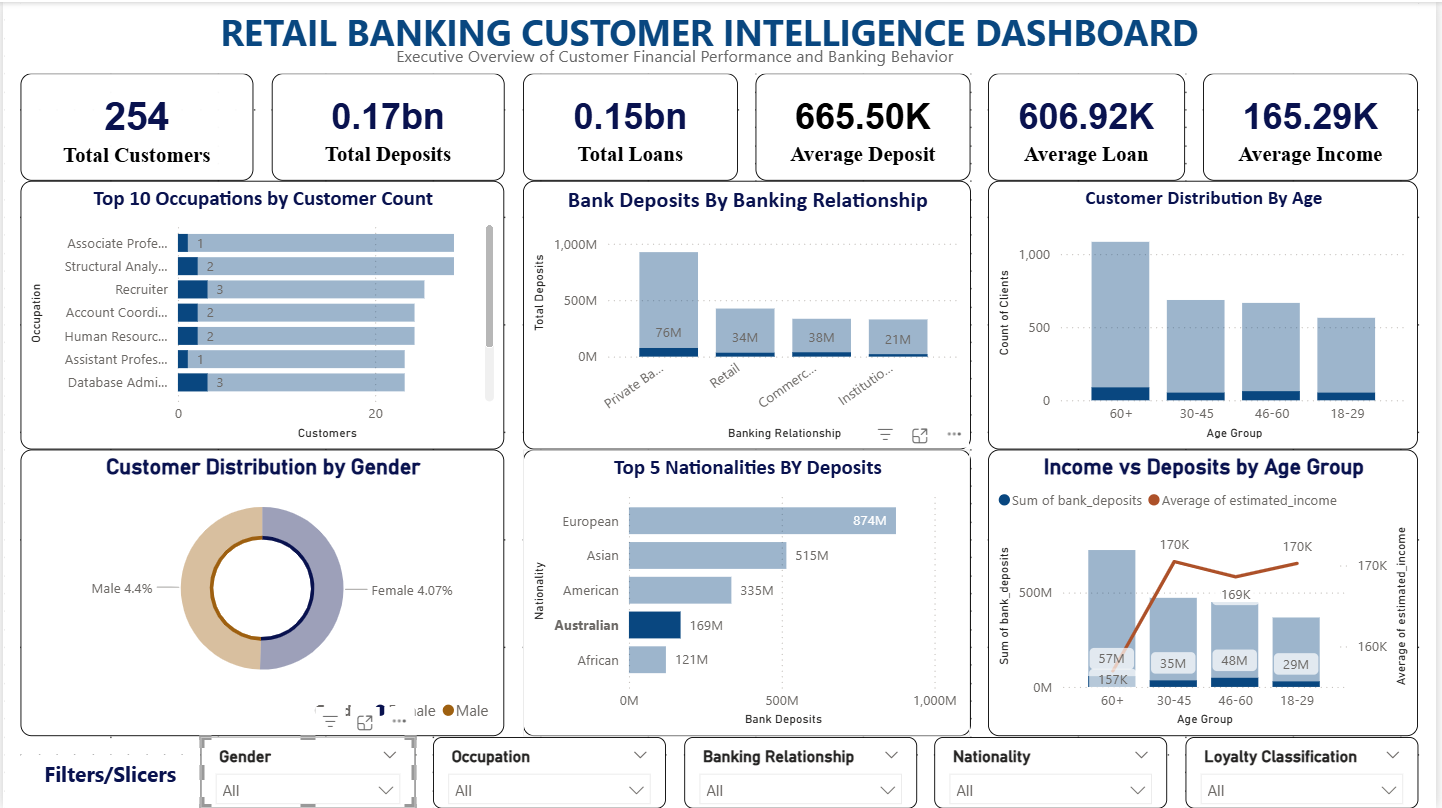

This screenshot's page, from the dashboard's own definition file:
{"tool":"powerbi","page":{"name":"Executive Dashboard","canvas":[1280,720],"ordinal":0},"visuals":[{"type":"card","fields":{"Values":["clean_banking_data.Total Customers"]},"box":[16,64,208,96],"z":0},{"type":"card","fields":{"Values":["clean_banking_data.Average Loan"]},"box":[880,64,176,96],"z":1},{"type":"card","fields":{"Values":["clean_banking_data.Average Deposit"]},"box":[672,64,192,96],"z":2},{"type":"card","fields":{"Values":["clean_banking_data.Total Deposits"]},"box":[240,64,208,96],"z":3},{"type":"card","fields":{"Values":["clean_banking_data.Average Income"]},"box":[1072,64,192,96],"z":4},{"type":"card","fields":{"Values":["clean_banking_data.Total Loans"]},"box":[464,64,192,96],"z":5},{"type":"clusteredBarChart","title":"Top 10 Occupations by Customer Count","fields":{"Category":["clean_banking_data.occupation"],"Y":["CountNonNull(clean_banking_data.client_id)"]},"box":[16,160,432,240],"z":6},{"type":"clusteredColumnChart","title":"Bank Deposits By Banking Relationship","fields":{"Category":["clean_banking_data.banking_relationship"],"Y":["Sum(clean_banking_data.bank_deposits)"]},"box":[464,160,400,240],"z":7},{"type":"donutChart","title":"Customer Distribution by Gender","fields":{"Category":["clean_banking_data.gender"],"Y":["CountNonNull(clean_banking_data.client_id)"]},"box":[16,400,432,256],"z":8},{"type":"clusteredBarChart","title":"Top 5 Nationalities BY Deposits","fields":{"Category":["clean_banking_data.nationality"],"Y":["Sum(clean_banking_data.bank_deposits)"]},"box":[464,400,400,256],"z":9},{"type":"columnChart","title":"Customer Distribution By Age","fields":{"Category":["clean_banking_data.Age Group"],"Y":["CountNonNull(clean_banking_data.client_id)"]},"box":[880,160,384,240],"z":10},{"type":"lineClusteredColumnComboChart","title":"Income vs Deposits by Age Group","fields":{"Category":["clean_banking_data.Age Group"],"Y":["Sum(clean_banking_data.bank_deposits)"],"Y2":["Avg(clean_banking_data.estimated_income)"]},"box":[880,400,384,256],"z":11},{"type":"textbox","box":[16,0,1248,64],"z":12},{"type":"slicer","fields":{"Values":["clean_banking_data.gender"]},"box":[176,656,192,64],"z":13},{"type":"slicer","fields":{"Values":["clean_banking_data.occupation"]},"box":[384,656,208,64],"z":14},{"type":"slicer","fields":{"Values":["clean_banking_data.banking_relationship"]},"box":[608,656,208,64],"z":15},{"type":"slicer","fields":{"Values":["clean_banking_data.nationality"]},"box":[832,656,208,64],"z":16},{"type":"slicer","fields":{"Values":["clean_banking_data.loyalty_classification"]},"box":[1056,656,208,64],"z":17},{"type":"textbox","box":[16,672,160,48],"z":18},{"type":"textbox","box":[240,32,720,32],"z":19}]}

Visuals, with their boxes in screenshot pixels (x1, y1, x2, y2), scaled from the page's 1280x720 canvas onto the 1442x808 screenshot:
card - clean_banking_data.Total Customers: l=18, t=72, r=252, b=180
card - clean_banking_data.Average Loan: l=991, t=72, r=1190, b=180
card - clean_banking_data.Average Deposit: l=757, t=72, r=973, b=180
card - clean_banking_data.Total Deposits: l=270, t=72, r=505, b=180
card - clean_banking_data.Average Income: l=1208, t=72, r=1424, b=180
card - clean_banking_data.Total Loans: l=523, t=72, r=739, b=180
"Top 10 Occupations by Customer Count" clusteredBarChart: l=18, t=180, r=505, b=449
"Bank Deposits By Banking Relationship" clusteredColumnChart: l=523, t=180, r=973, b=449
"Customer Distribution by Gender" donutChart: l=18, t=449, r=505, b=736
"Top 5 Nationalities BY Deposits" clusteredBarChart: l=523, t=449, r=973, b=736
"Customer Distribution By Age" columnChart: l=991, t=180, r=1424, b=449
"Income vs Deposits by Age Group" lineClusteredColumnComboChart: l=991, t=449, r=1424, b=736
textbox: l=18, t=0, r=1424, b=72
slicer - clean_banking_data.gender: l=198, t=736, r=415, b=807
slicer - clean_banking_data.occupation: l=433, t=736, r=667, b=807
slicer - clean_banking_data.banking_relationship: l=685, t=736, r=919, b=807
slicer - clean_banking_data.nationality: l=937, t=736, r=1172, b=807
slicer - clean_banking_data.loyalty_classification: l=1190, t=736, r=1424, b=807
textbox: l=18, t=754, r=198, b=807
textbox: l=270, t=36, r=1082, b=72
